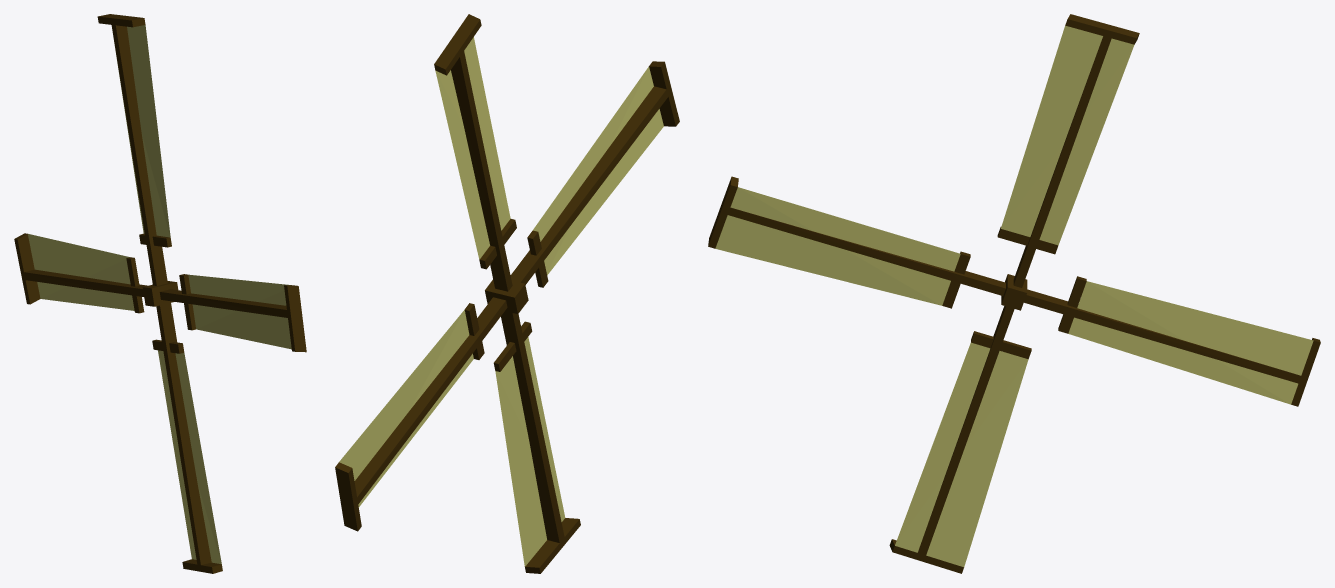
Rendered from sails0016.obj.
3 views of the same model, side by side, from view 1: azimuth 30°, elevation 25°; view 2: azimuth 150°, elevation 25°; view 3: azimuth 270°, elevation 25° (orthographic). The views are drawn at different scales.
Visible parts, largest first — view 1: Sails_Mesh; view 2: Sails_Mesh; view 3: Sails_Mesh.
Part boxes in pixels (bbox=[...]): Sails_Mesh: bbox=[14, 14, 306, 573]; Sails_Mesh: bbox=[335, 14, 679, 573]; Sails_Mesh: bbox=[708, 14, 1320, 573].
Bounding box in the file's own units: 0.5135 × 9.84 × 9.85.
